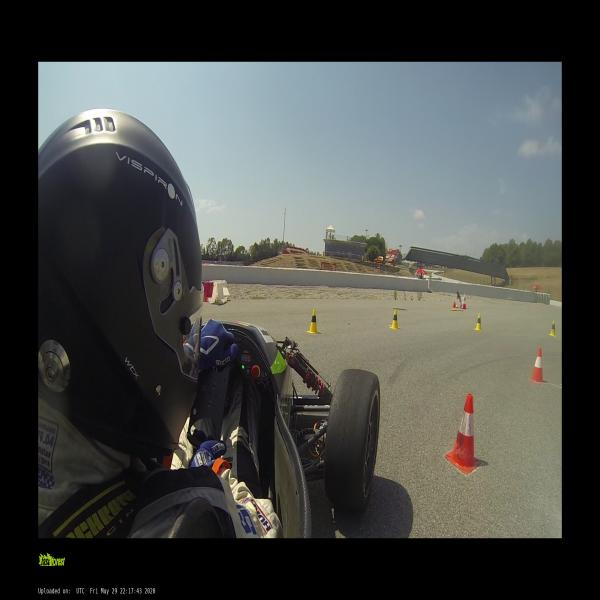orange_cone: (448, 393, 482, 473), (529, 347, 546, 384), (461, 304, 466, 309), (453, 303, 458, 308)
yellow_cone: (306, 310, 318, 334), (388, 310, 400, 330), (548, 320, 556, 337), (474, 314, 481, 331)
